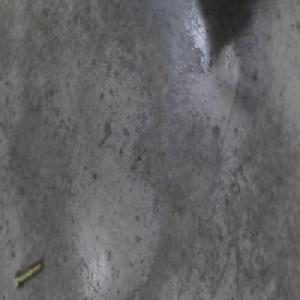Bolt: (14, 259, 42, 289)
